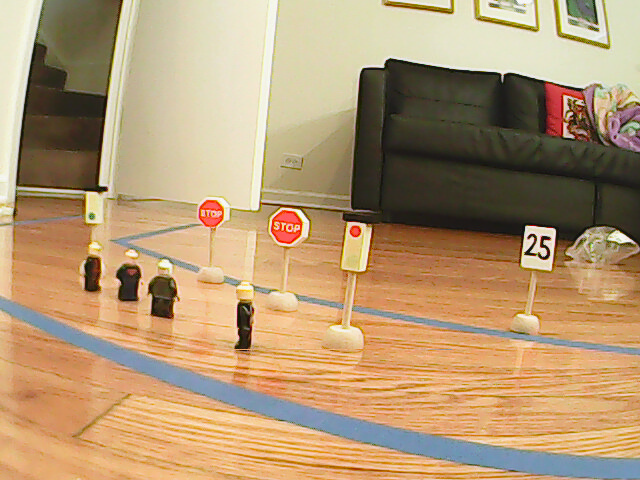Green Traffic Light: (81, 186, 106, 226)
Person: (147, 260, 180, 317), (231, 282, 257, 350), (78, 241, 105, 292), (116, 251, 142, 300)
Red Traffic Light: (341, 209, 374, 272)
Speed Limit 25: (523, 224, 556, 272)
Stop Sign: (267, 207, 308, 250), (196, 196, 232, 231)
